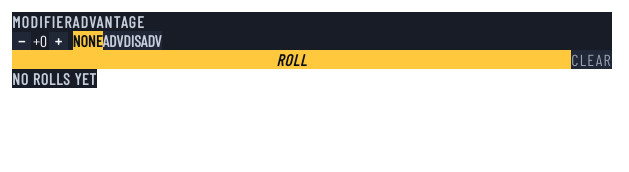
Test case: DiceRoller › rolls with advantage when the advantage toggle is selected
Click the button "Adv": (113, 40) [102,31,123,50]
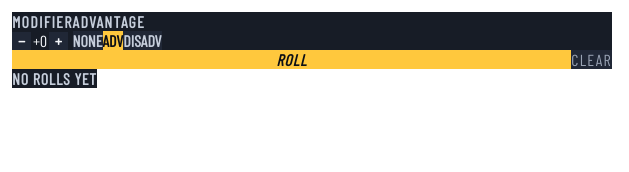
Click the button "Roll": (292, 60) [12,50,571,69]
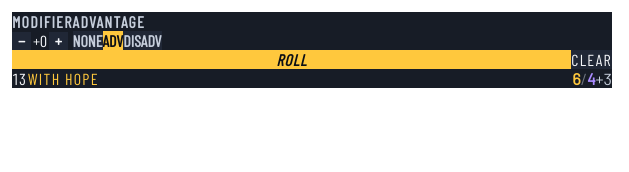
Check: the text "+3" is shown, box [596,69,612,88]
